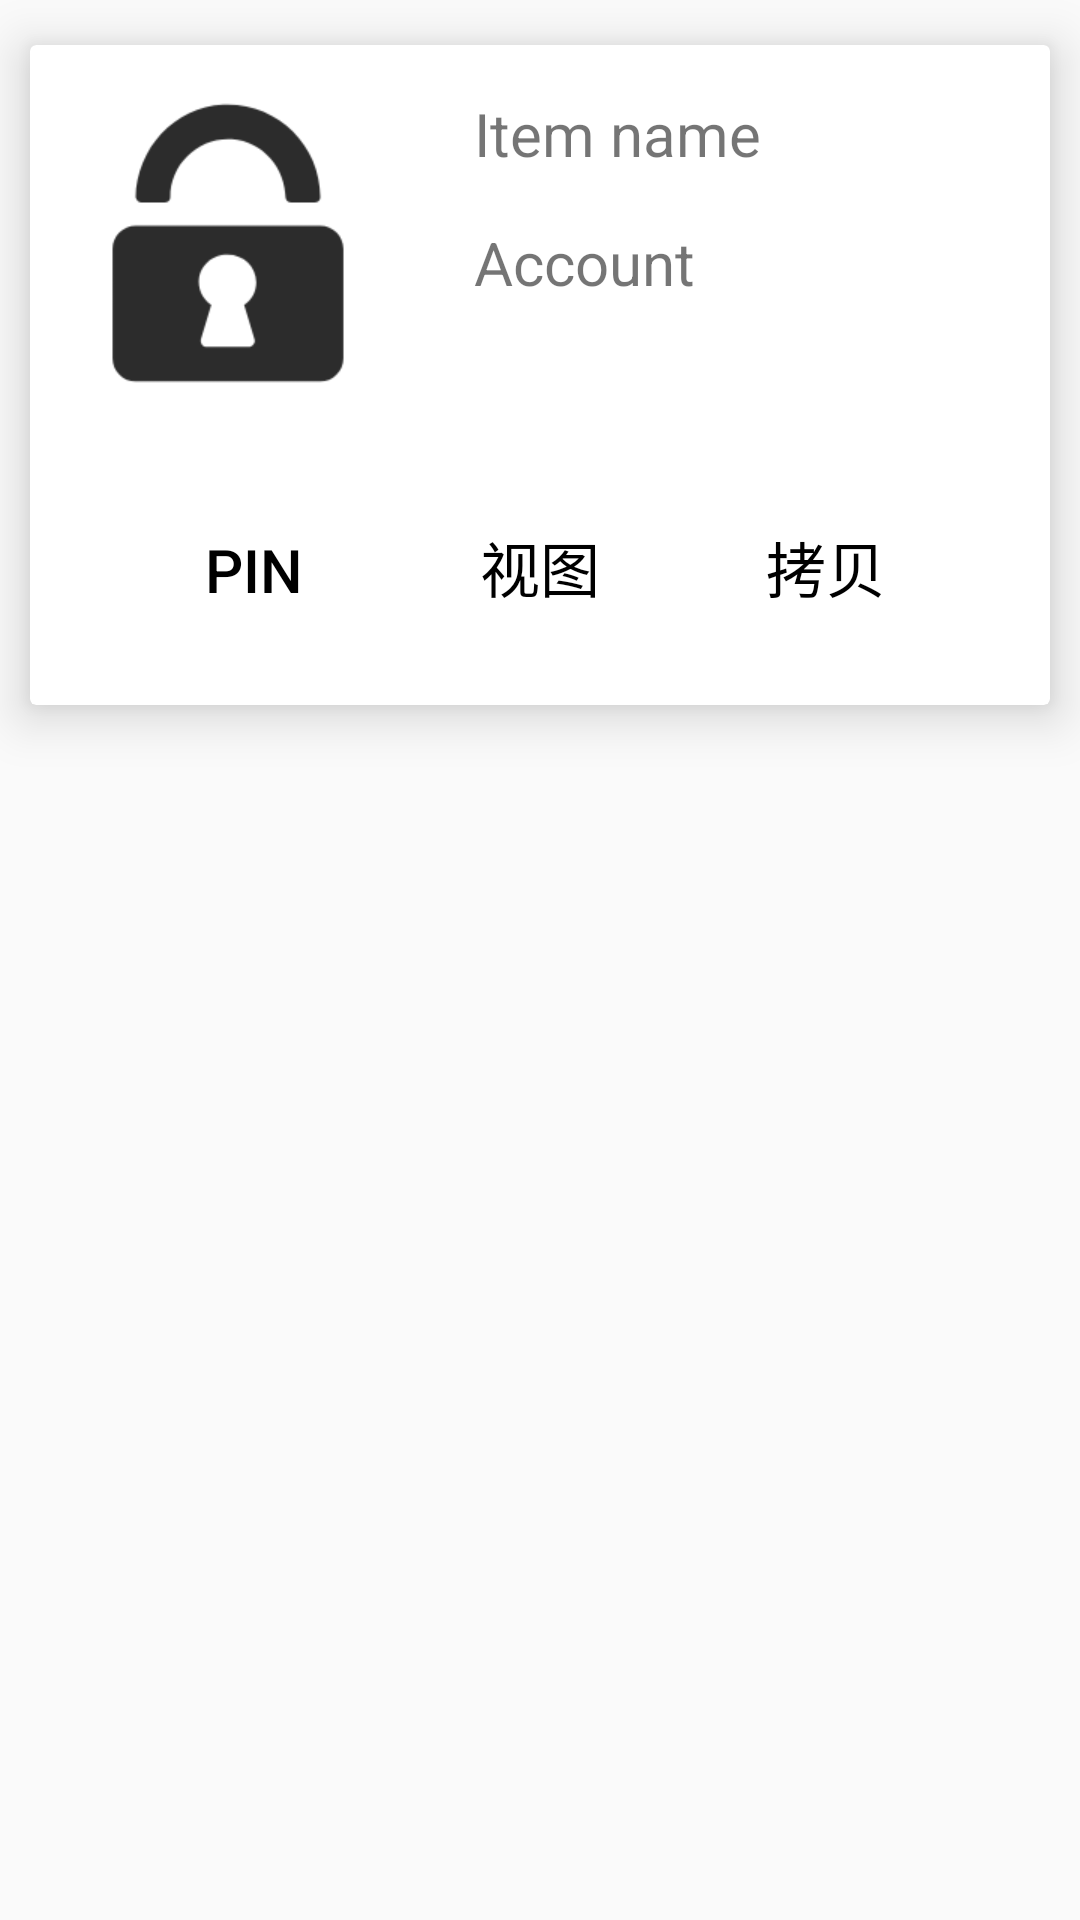

Where to tap for icons on this 1080*1920 app screen, as (x=x, y=y):
lock: (x=228, y=243)
